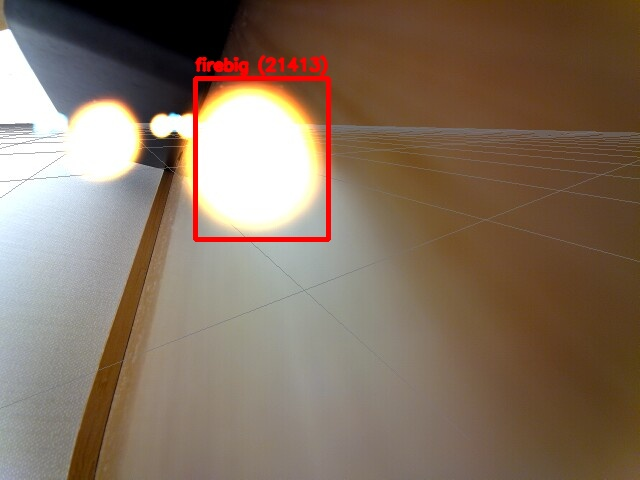firebig: (195, 78, 328, 239)
